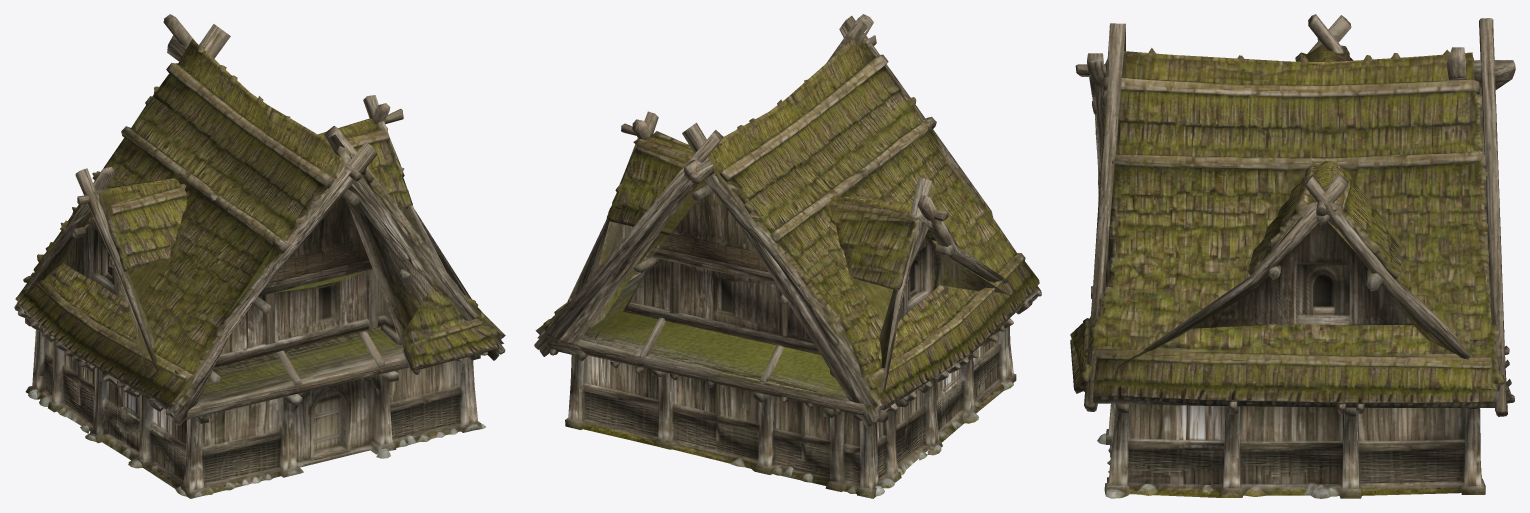
File: house2.glb
The picture shows the model from 3 angles, left to right: view 1: azimuth 30°, elevation 25°; view 2: azimuth 150°, elevation 25°; view 3: azimuth 270°, elevation 25°; orthographic projection. The views are drawn at different scales.
Visible parts, largest first — view 1: tripo_node_df46f7c1-31a6-4bf5-9a9d-0b93e4bdacc7; view 2: tripo_node_df46f7c1-31a6-4bf5-9a9d-0b93e4bdacc7; view 3: tripo_node_df46f7c1-31a6-4bf5-9a9d-0b93e4bdacc7.
Part boxes in pixels (bbox=[...]): tripo_node_df46f7c1-31a6-4bf5-9a9d-0b93e4bdacc7: bbox=[14, 14, 505, 498]; tripo_node_df46f7c1-31a6-4bf5-9a9d-0b93e4bdacc7: bbox=[534, 14, 1041, 498]; tripo_node_df46f7c1-31a6-4bf5-9a9d-0b93e4bdacc7: bbox=[1070, 14, 1515, 498].
Bounding box in the file's own units: 0.9995 × 0.8931 × 0.9136.
1 material, 1 textured.
